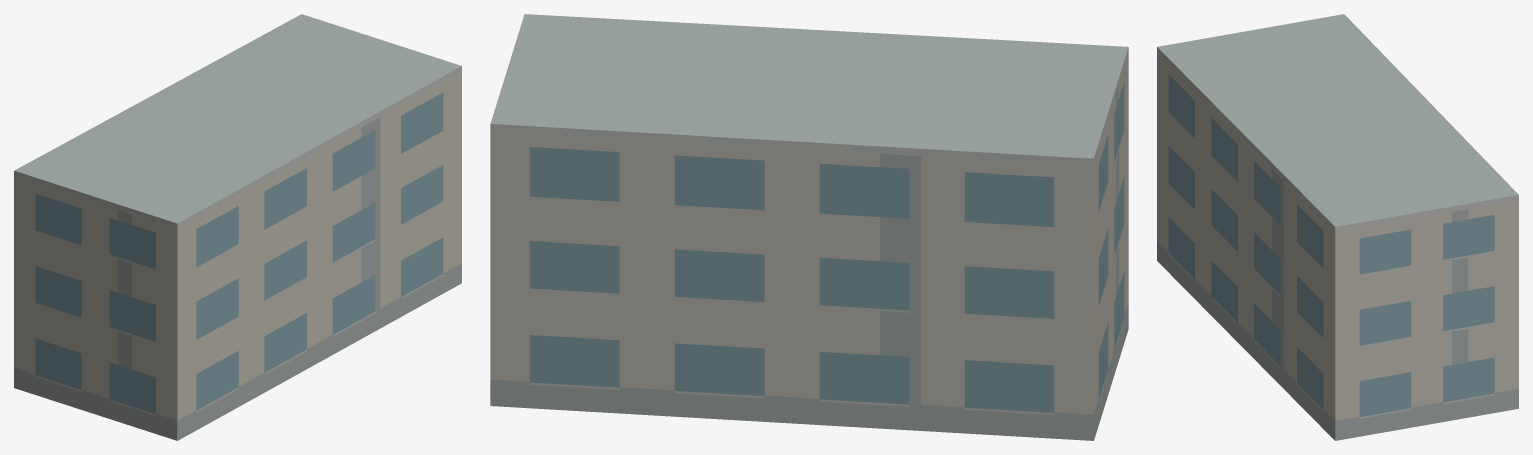
The model's file is survey-upis-32520851.glb.
3 renders of one model, left to right at view 1: azimuth 30°, elevation 25°; view 2: azimuth 150°, elevation 25°; view 3: azimuth 270°, elevation 25°, orthographic. The views are drawn at different scales.
Parts seen in each view (by area): view 1: survey-upis-32520851.tmp; view 2: survey-upis-32520851.tmp; view 3: survey-upis-32520851.tmp.
Part boxes in pixels (x1,y1,x2,y2): survey-upis-32520851.tmp: [14, 14, 461, 440]; survey-upis-32520851.tmp: [490, 14, 1128, 440]; survey-upis-32520851.tmp: [1157, 14, 1518, 440].
Bounding box in the file's own units: 19.54 × 9.15 × 14.03.
